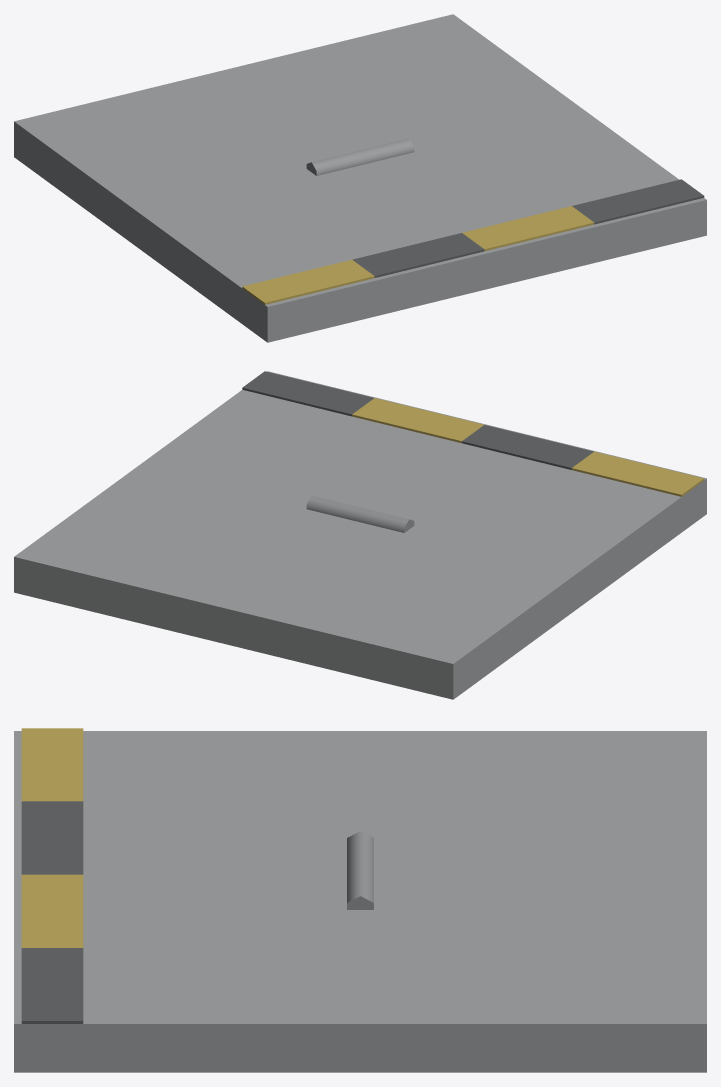
Rendered from pressHatch_steel_door.glb.
The picture shows the model from 3 angles, top to bottom: view 1: azimuth 30°, elevation 25°; view 2: azimuth 150°, elevation 25°; view 3: azimuth 270°, elevation 25°; orthographic projection. The views are drawn at different scales.
Visible parts, largest first — view 1: pressHatch_steel_door; view 2: pressHatch_steel_door; view 3: pressHatch_steel_door.
Part boxes in pixels (box(x1,y1,x2,y2)): pressHatch_steel_door: box(14, 14, 706, 342); pressHatch_steel_door: box(14, 371, 706, 699); pressHatch_steel_door: box(14, 728, 706, 1072).
Bounding box in the file's own units: 0.9 × 0.09 × 0.9.
